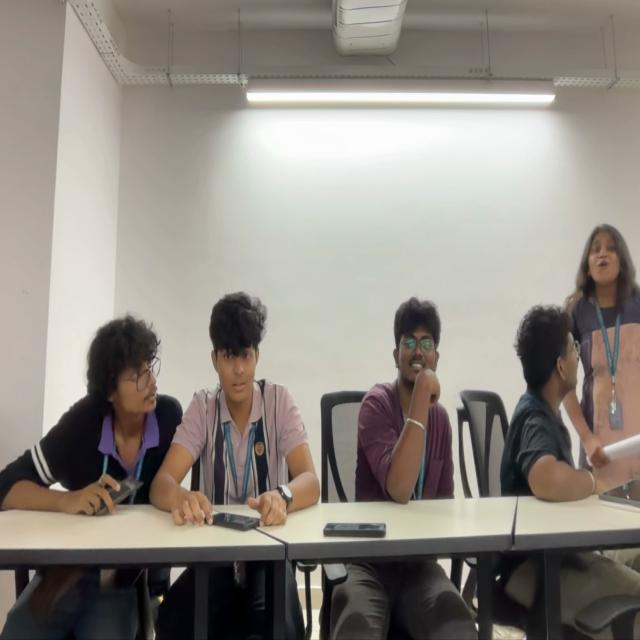Isolated: (361, 294, 453, 495)
socializing: (0, 290, 319, 524), (496, 228, 638, 496)
